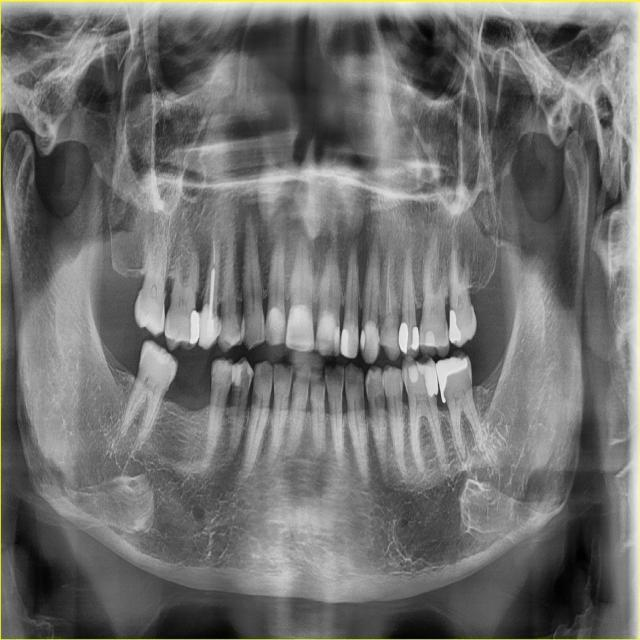71: (206, 266, 215, 339)
74: (383, 259, 393, 317)
NucleOSS Implant: (435, 354, 475, 403), (397, 320, 409, 355), (189, 309, 201, 343), (449, 310, 460, 342), (410, 325, 421, 351)
Sterngold Implant: (443, 318, 449, 338), (225, 370, 232, 387), (211, 369, 217, 381), (419, 323, 423, 336)
Straumann Implant: (371, 313, 408, 362), (285, 302, 317, 353), (414, 354, 446, 398), (314, 312, 344, 357), (199, 303, 220, 349), (224, 356, 255, 387), (362, 320, 382, 364), (266, 306, 287, 345), (345, 323, 359, 358), (340, 326, 350, 356), (408, 364, 419, 383), (424, 330, 435, 347), (359, 328, 366, 351)
